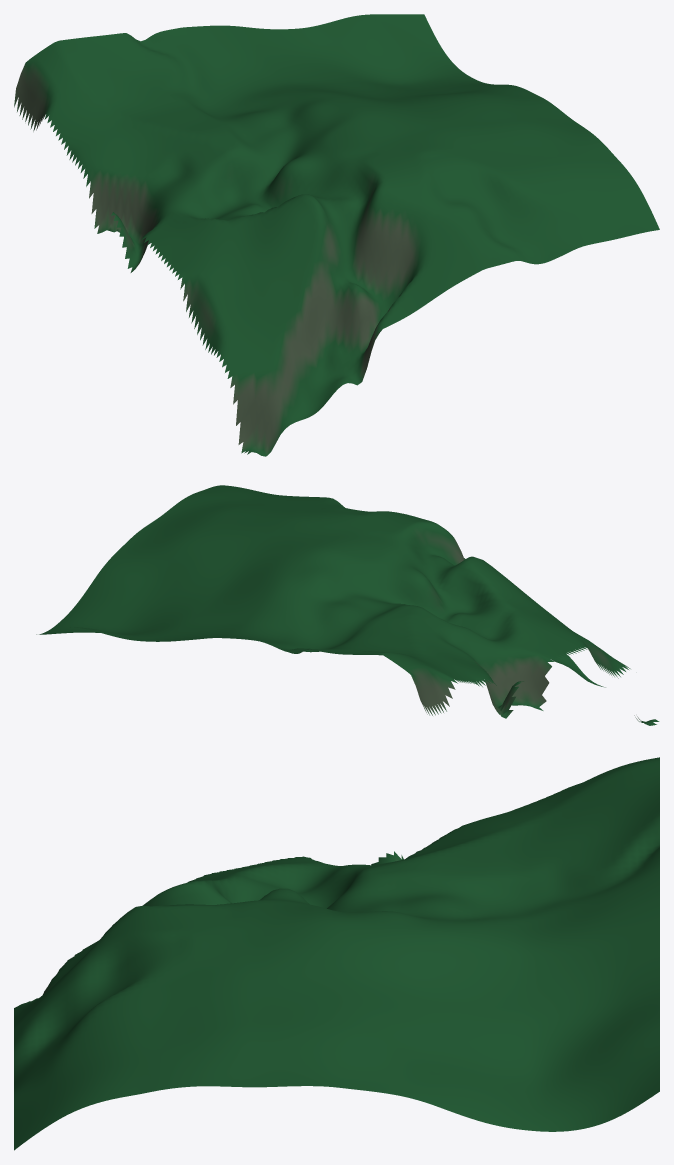
File: payo_land_xm2_y0.glb
The picture shows the model from 3 angles, top to bottom: view 1: azimuth 30°, elevation 25°; view 2: azimuth 150°, elevation 25°; view 3: azimuth 270°, elevation 25°; orthographic projection. The views are drawn at different scales.
Visible parts, largest first — view 1: payo_land_xm2_y0; view 2: payo_land_xm2_y0; view 3: payo_land_xm2_y0.
Part boxes in pixels (box(x1,y1,x2,y2)): payo_land_xm2_y0: box(14, 14, 659, 456); payo_land_xm2_y0: box(36, 485, 659, 725); payo_land_xm2_y0: box(14, 757, 659, 1150).
Bounding box in the file's own units: 258 × 141 × 255.
